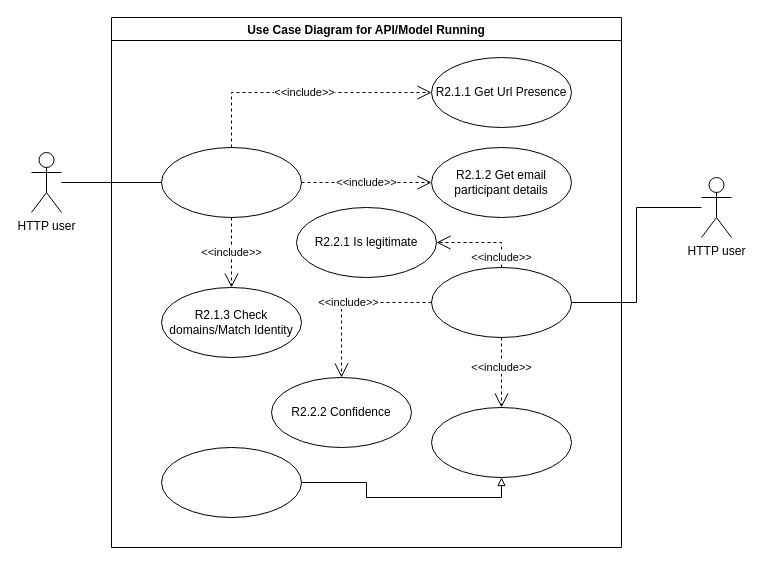
Image size: 762x565. Some labels were removed from this diagram. The shapes that lost their labels are listed below. From the top down, each one's box as (x1, y1, x2, y2) in pixels, then its label:
(160, 146, 302, 218): R2.1 Email Ingest
(430, 266, 572, 338): R2.2 Prediction Output
(430, 406, 572, 478): R2.2.3 Reasoning
(160, 446, 302, 518): R2.3 Prediction Reasoning
